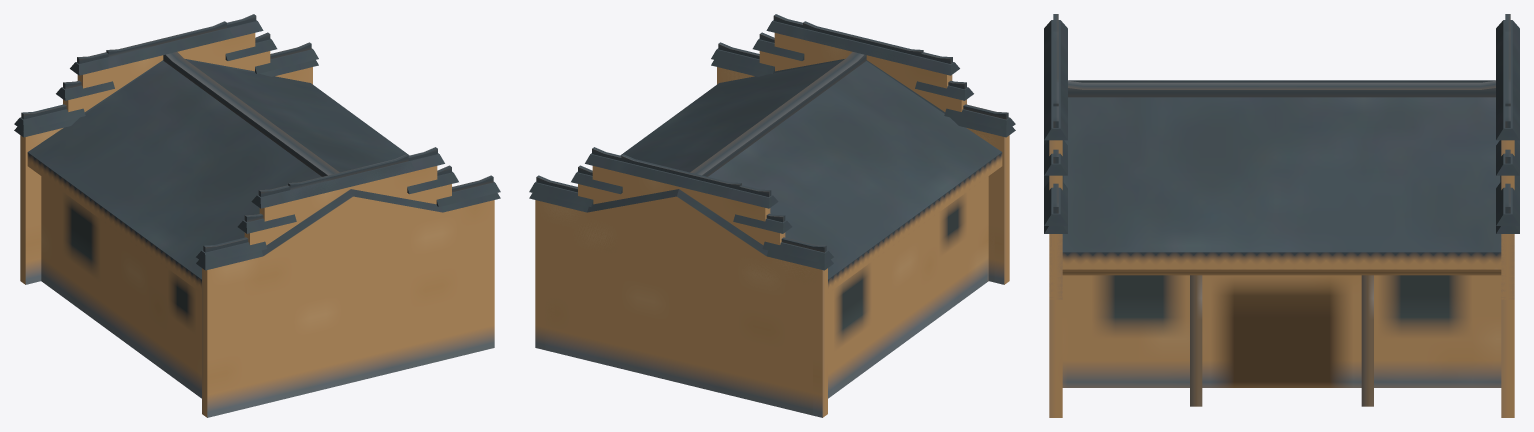
Rendered from Hui_Building_Residential_L1_04_Mod.fbx.
3 renders of one model, left to right at view 1: azimuth 30°, elevation 25°; view 2: azimuth 150°, elevation 25°; view 3: azimuth 270°, elevation 25°, orthographic. The views are drawn at different scales.
Visible parts, largest first — view 1: Hui_Building_Residential_L1_04_Mod, Hui_Building_Residential_WallL_L1_03_Mod, Hui_Building_Residential_WallL_L1_02_Mod, Hui_Building_Residential_WallR_L1_03_Mod, Hui_Building_Residential_WallL_L1_01_Mod, Hui_Building_Residential_WallR_L1_01_Mod, Hui_Building_Residential_WallR_L1_02_Mod; view 2: Hui_Building_Residential_L1_04_Mod, Hui_Building_Residential_WallR_L1_01_Mod, Hui_Building_Residential_WallR_L1_02_Mod, Hui_Building_Residential_WallL_L1_01_Mod, Hui_Building_Residential_WallL_L1_03_Mod, Hui_Building_Residential_WallR_L1_03_Mod, Hui_Building_Residential_WallL_L1_02_Mod; view 3: Hui_Building_Residential_L1_04_Mod, Hui_Building_Residential_WallR_L1_03_Mod, Hui_Building_Residential_WallL_L1_03_Mod, Hui_Building_Residential_WallL_L1_01_Mod, Hui_Building_Residential_WallR_L1_01_Mod.
Boxes of the visible parts, left/top/right/bottom form: Hui_Building_Residential_L1_04_Mod: left=27, top=52, right=452, bottom=398; Hui_Building_Residential_WallL_L1_03_Mod: left=196, top=154, right=499, bottom=417; Hui_Building_Residential_WallL_L1_02_Mod: left=196, top=189, right=500, bottom=415; Hui_Building_Residential_WallR_L1_03_Mod: left=15, top=21, right=318, bottom=284; Hui_Building_Residential_WallL_L1_01_Mod: left=196, top=147, right=500, bottom=321; Hui_Building_Residential_WallR_L1_01_Mod: left=14, top=14, right=317, bottom=189; Hui_Building_Residential_WallR_L1_02_Mod: left=14, top=59, right=318, bottom=137; Hui_Building_Residential_L1_04_Mod: left=577, top=52, right=1002, bottom=398; Hui_Building_Residential_WallR_L1_01_Mod: left=529, top=147, right=833, bottom=415; Hui_Building_Residential_WallR_L1_02_Mod: left=529, top=189, right=833, bottom=349; Hui_Building_Residential_WallL_L1_01_Mod: left=711, top=14, right=1015, bottom=282; Hui_Building_Residential_WallL_L1_03_Mod: left=711, top=21, right=1009, bottom=284; Hui_Building_Residential_WallR_L1_03_Mod: left=535, top=154, right=833, bottom=417; Hui_Building_Residential_WallL_L1_02_Mod: left=711, top=59, right=1015, bottom=190; Hui_Building_Residential_L1_04_Mod: left=1062, top=80, right=1501, bottom=406; Hui_Building_Residential_WallR_L1_03_Mod: left=1496, top=31, right=1519, bottom=417; Hui_Building_Residential_WallL_L1_03_Mod: left=1044, top=31, right=1067, bottom=417; Hui_Building_Residential_WallL_L1_01_Mod: left=1044, top=14, right=1067, bottom=299; Hui_Building_Residential_WallR_L1_01_Mod: left=1496, top=14, right=1519, bottom=299.
Bounding box in the file's own units: 730 × 500 × 819.
